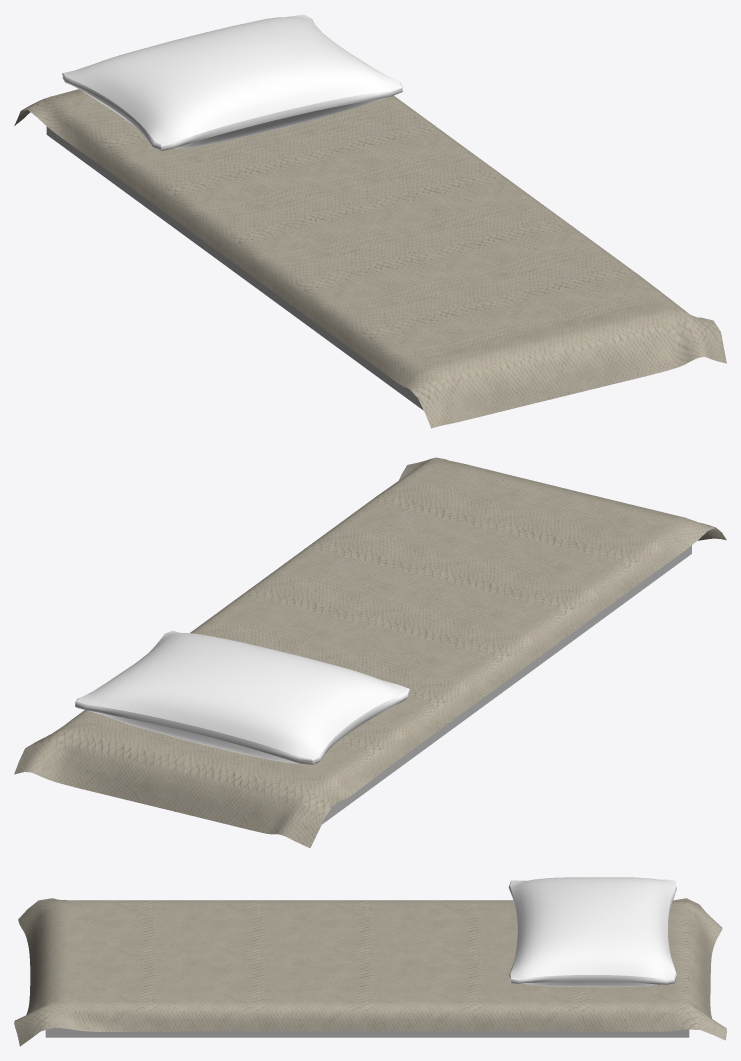
The model's file is Sleeping bag and pillow.fbx.
3 views of the same model, one above another, from view 1: azimuth 30°, elevation 25°; view 2: azimuth 150°, elevation 25°; view 3: azimuth 270°, elevation 25° (orthographic). The views are drawn at different scales.
Visible parts, largest first — view 1: SM_SleepingBagCloth, SM_Pillow, SleepingBag; view 2: SM_SleepingBagCloth, SM_Pillow, SleepingBag; view 3: SM_SleepingBagCloth, SM_Pillow, SleepingBag.
Boxes of the visible parts, bbox=[...] form: SM_SleepingBagCloth: bbox=[14, 89, 726, 428]; SM_Pillow: bbox=[62, 14, 403, 150]; SleepingBag: bbox=[46, 126, 423, 410]; SM_SleepingBagCloth: bbox=[14, 457, 726, 847]; SM_Pillow: bbox=[75, 630, 409, 764]; SleepingBag: bbox=[322, 545, 691, 824]; SM_SleepingBagCloth: bbox=[14, 898, 726, 1046]; SM_Pillow: bbox=[508, 877, 676, 986]; SleepingBag: bbox=[45, 1027, 689, 1037].
Bounding box in the file's own units: 89.23 × 27.5 × 217.
